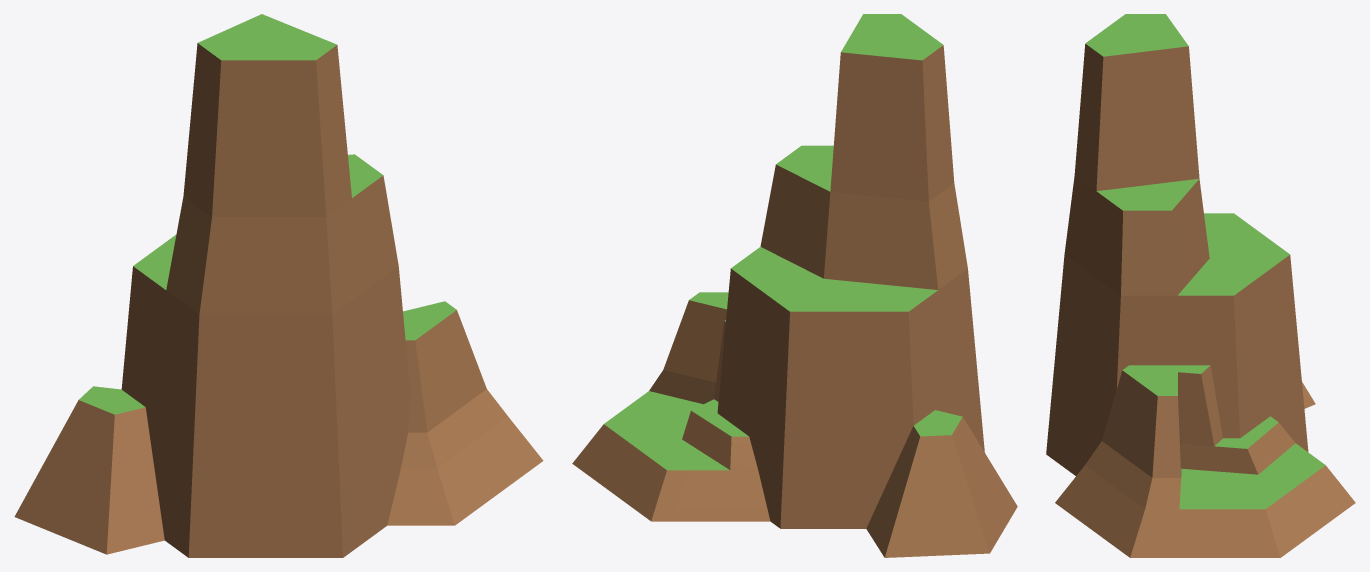
The model's file is rock_tall.glb.
3 renders of one model, left to right at view 1: azimuth 30°, elevation 25°; view 2: azimuth 150°, elevation 25°; view 3: azimuth 270°, elevation 25°, orthographic. The views are drawn at different scales.
Visible parts, largest first — view 1: rock_tallA; view 2: rock_tallA; view 3: rock_tallA.
Boxes of the visible parts, left/top/right/bottom form: rock_tallA: left=14, top=14, right=543, bottom=557; rock_tallA: left=572, top=14, right=1017, bottom=557; rock_tallA: left=1046, top=14, right=1355, bottom=557.
Bounding box in the file's own units: 0.983 × 0.9959 × 0.6832.
